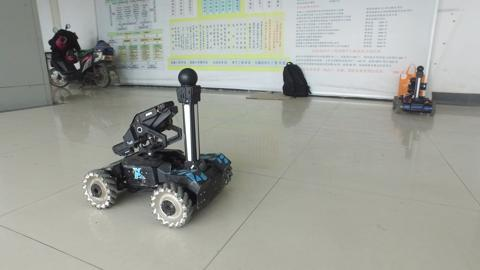bag: (279, 60, 315, 101)
chariot: (78, 65, 237, 229), (390, 59, 439, 123)
